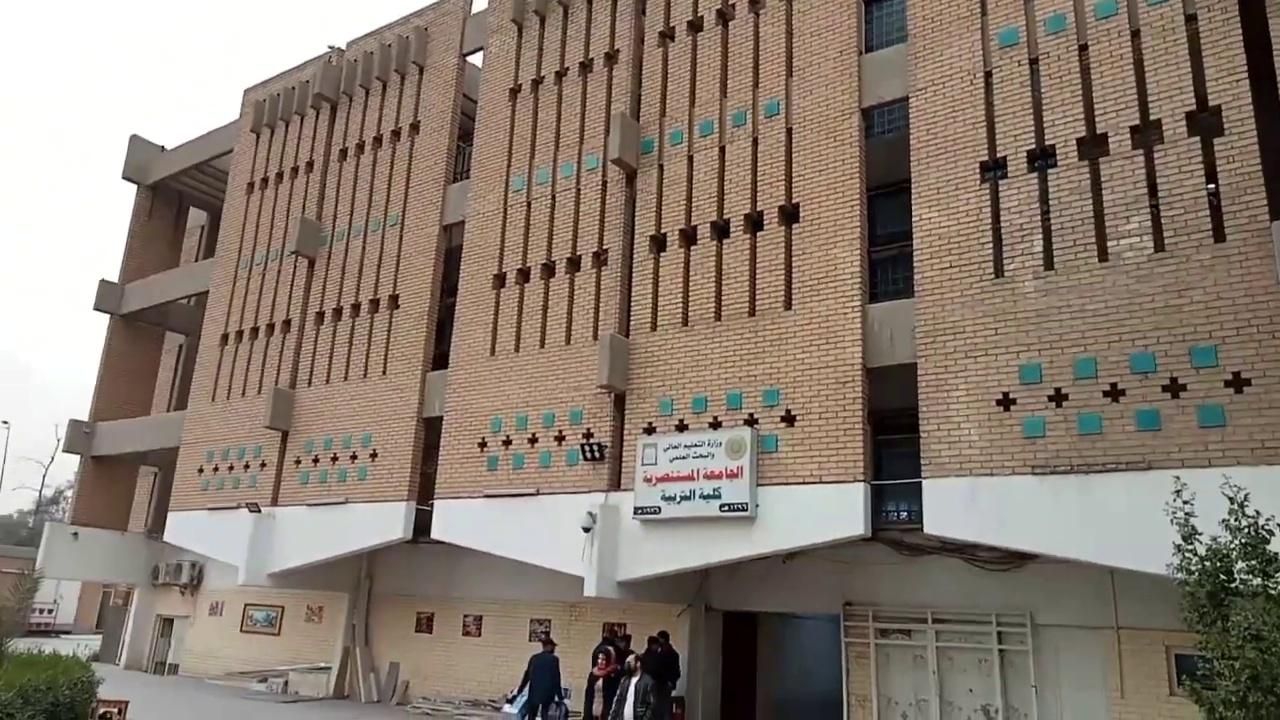person: (507, 636, 564, 719), (607, 653, 656, 719), (581, 645, 621, 719)
tree: (1161, 470, 1279, 718), (0, 642, 104, 719), (12, 424, 63, 529), (0, 565, 44, 642)
